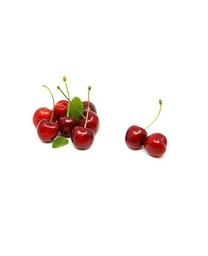cherry: (76, 110, 99, 139), (71, 126, 94, 151), (124, 125, 147, 150), (144, 133, 167, 158), (33, 106, 55, 129), (37, 120, 58, 143), (57, 115, 77, 138)
